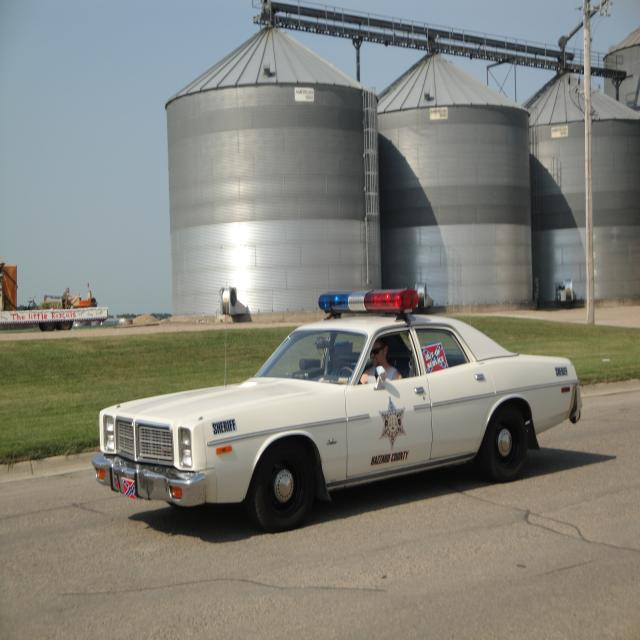car: (84, 302, 577, 530)
